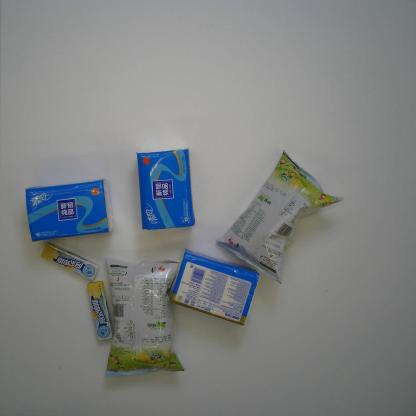Candy: (40, 242, 100, 281), (86, 280, 114, 342)
Puffed Food: (214, 148, 345, 285), (103, 255, 186, 377)
Tissue: (168, 247, 261, 326), (24, 177, 115, 243), (135, 147, 196, 232)
